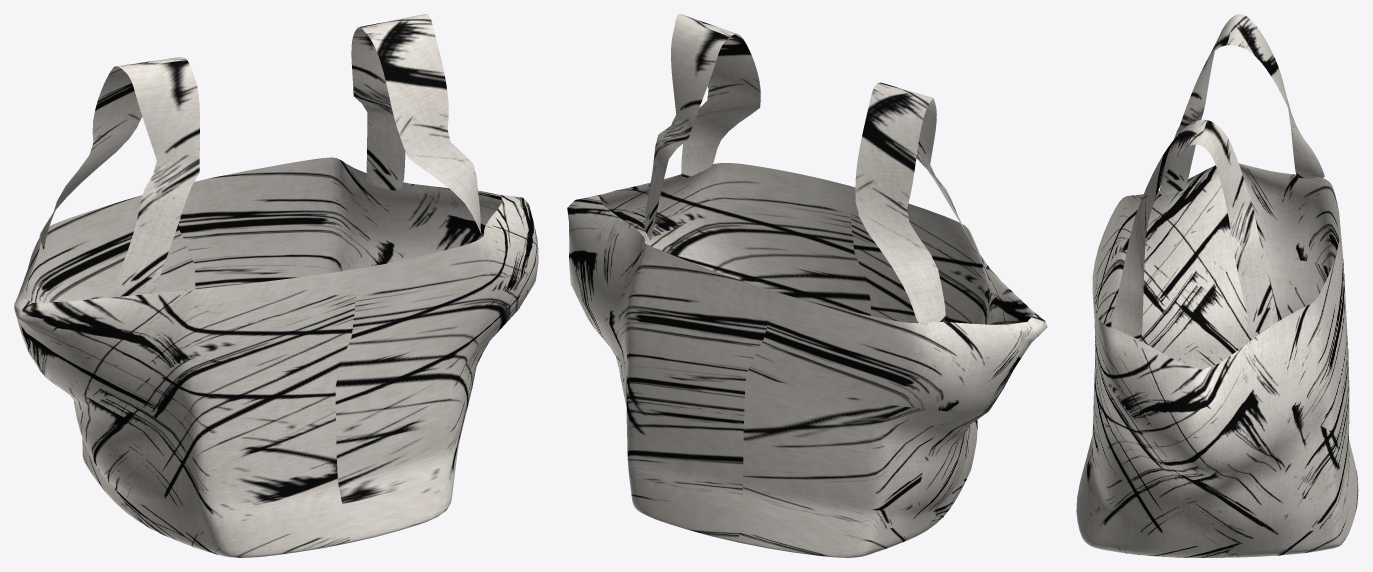
Rendered from tote.glb.
3 views of the same model, side by side, from view 1: azimuth 30°, elevation 25°; view 2: azimuth 150°, elevation 25°; view 3: azimuth 270°, elevation 25° (orthographic). The views are drawn at different scales.
Visible parts, largest first — view 1: 6; view 2: 6; view 3: 6.
Boxes of the visible parts, x1,y1,x2,y2 form: 6: (14,14,538,557); 6: (567,14,1047,557); 6: (1076,14,1358,557).
Size of the model in its own units: 2.82 by 2.43 by 1.46.
Materials: 1 (1 with a texture image).
